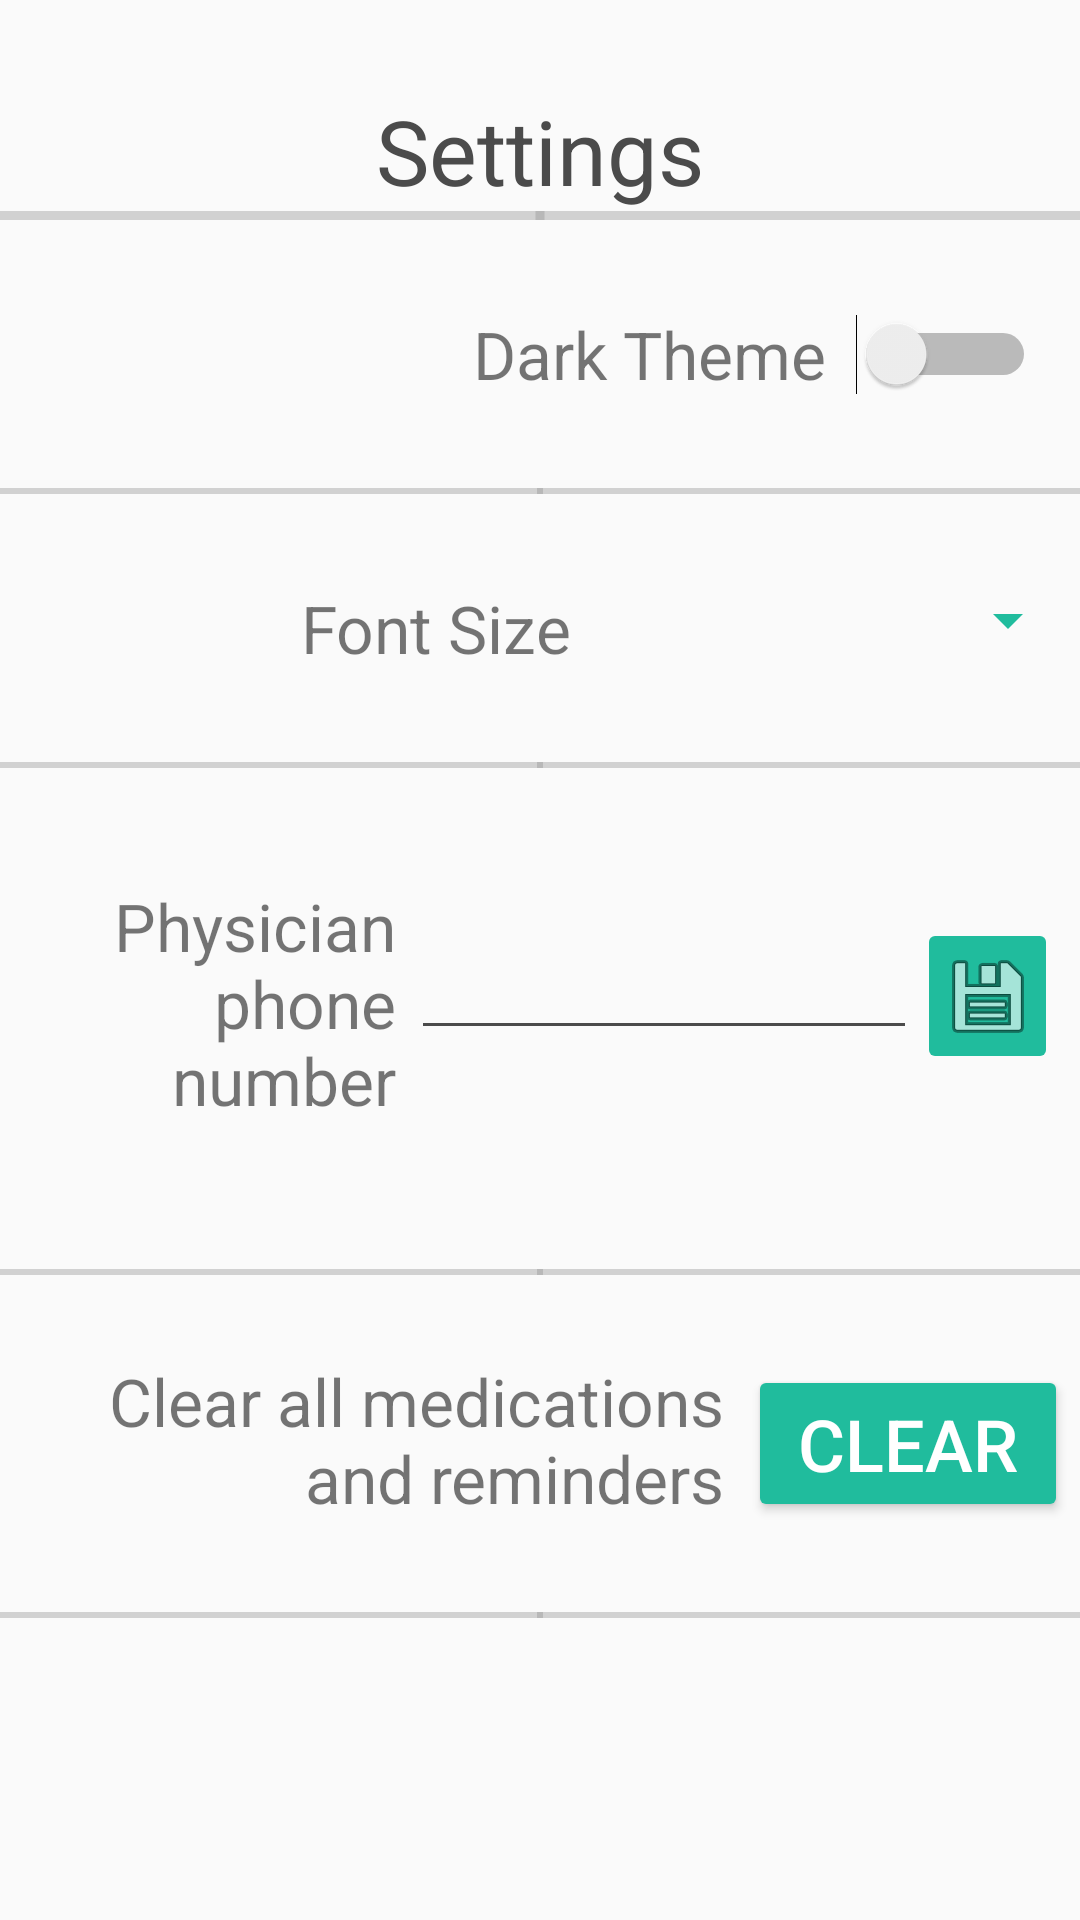

Screen size 1080x1920. Icon name, then its center in pixels as point (x, y):
save: point (987, 996)
